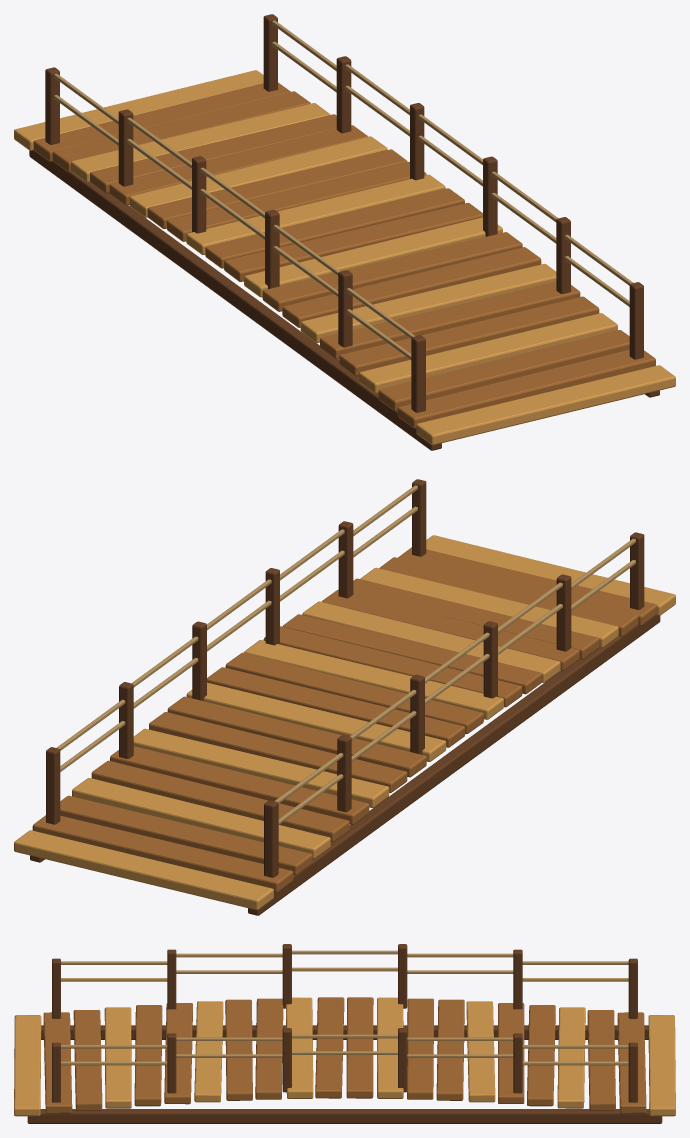
File: FTF_Structure_Bridge_Wood_11x4m.glb
3 views of the same model, one above another, from view 1: azimuth 30°, elevation 25°; view 2: azimuth 150°, elevation 25°; view 3: azimuth 270°, elevation 25° (orthographic). The views are drawn at different scales.
Parts seen in each view (by area): view 1: WoodBridge_Beam_-1.72, WoodBridge_Plank_00, WoodBridge_Plank_01, WoodBridge_Plank_03, WoodBridge_Plank_02, WoodBridge_Plank_04, WoodBridge_Plank_07, WoodBridge_Plank_05, WoodBridge_Plank_06, WoodBridge_Plank_08, WoodBridge_Plank_10, WoodBridge_Plank_11 (+23 smaller); view 2: WoodBridge_Beam_-1.72, WoodBridge_Plank_21, WoodBridge_Plank_20, WoodBridge_Plank_18, WoodBridge_Plank_19, WoodBridge_Plank_17, WoodBridge_Plank_14, WoodBridge_Plank_16, WoodBridge_Plank_15, WoodBridge_Plank_13, WoodBridge_Plank_11, WoodBridge_Plank_10 (+23 smaller); view 3: WoodBridge_Beam_1.72, WoodBridge_Plank_21, WoodBridge_Plank_00, WoodBridge_Plank_11, WoodBridge_Plank_04, WoodBridge_Plank_10, WoodBridge_Plank_18, WoodBridge_Plank_06, WoodBridge_Plank_15, WoodBridge_Plank_08, WoodBridge_Plank_14, WoodBridge_Plank_17 (+44 smaller).
Boxes of the visible parts, left/top/right/bottom form: WoodBridge_Beam_-1.72: left=29, top=150, right=441, bottom=450; WoodBridge_Plank_00: left=416, top=365, right=675, bottom=445; WoodBridge_Plank_01: left=397, top=349, right=655, bottom=428; WoodBridge_Plank_03: left=359, top=313, right=617, bottom=393; WoodBridge_Plank_02: left=378, top=330, right=629, bottom=411; WoodBridge_Plank_04: left=339, top=296, right=599, bottom=376; WoodBridge_Plank_07: left=282, top=247, right=541, bottom=327; WoodBridge_Plank_05: left=320, top=282, right=580, bottom=359; WoodBridge_Plank_06: left=300, top=263, right=556, bottom=342; WoodBridge_Plank_08: left=262, top=232, right=522, bottom=311; WoodBridge_Plank_10: left=224, top=203, right=482, bottom=281; WoodBridge_Plank_11: left=205, top=188, right=464, bottom=268; WoodBridge_Beam_-1.72: left=248, top=615, right=660, bottom=915; WoodBridge_Plank_21: left=14, top=830, right=273, bottom=910; WoodBridge_Plank_20: left=32, top=815, right=293, bottom=892; WoodBridge_Plank_18: left=72, top=778, right=330, bottom=858; WoodBridge_Plank_19: left=60, top=795, right=312, bottom=875; WoodBridge_Plank_17: left=91, top=760, right=349, bottom=841; WoodBridge_Plank_14: left=149, top=712, right=407, bottom=792; WoodBridge_Plank_16: left=110, top=746, right=369, bottom=824; WoodBridge_Plank_15: left=133, top=728, right=389, bottom=807; WoodBridge_Plank_13: left=167, top=696, right=426, bottom=777; WoodBridge_Plank_11: left=207, top=667, right=465, bottom=747; WoodBridge_Plank_10: left=225, top=652, right=483, bottom=733; WoodBridge_Beam_1.72: left=27, top=1109, right=662, bottom=1123; WoodBridge_Plank_21: left=648, top=1015, right=675, bottom=1116; WoodBridge_Plank_00: left=14, top=1015, right=41, bottom=1116; WoodBridge_Plank_11: left=346, top=997, right=373, bottom=1098; WoodBridge_Plank_04: left=134, top=1005, right=162, bottom=1106; WoodBridge_Plank_10: left=315, top=997, right=344, bottom=1098; WoodBridge_Plank_18: left=557, top=1007, right=585, bottom=1108; WoodBridge_Plank_06: left=194, top=1001, right=223, bottom=1102; WoodBridge_Plank_15: left=466, top=1001, right=495, bottom=1102; WoodBridge_Plank_08: left=255, top=998, right=283, bottom=1099; WoodBridge_Plank_14: left=436, top=999, right=464, bottom=1100; WoodBridge_Plank_17: left=527, top=1005, right=555, bottom=1106.
Bounding box in the file's own units: 3.85 × 1.78 × 11.47.
